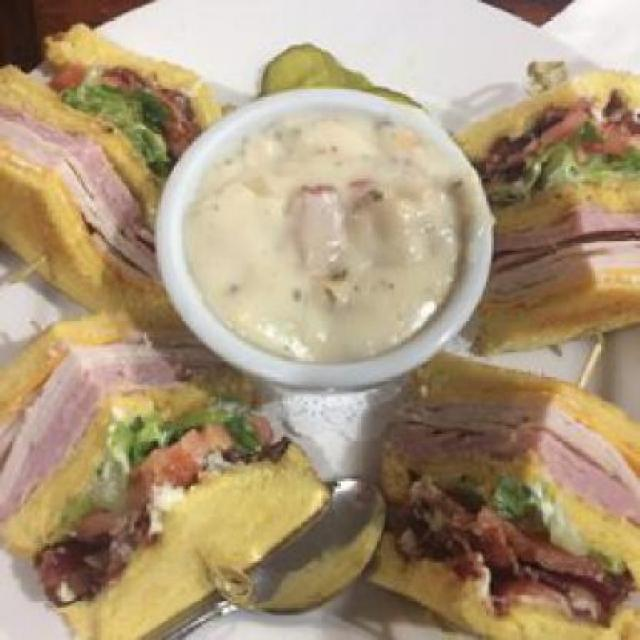clam chowder: (166, 89, 474, 365)
club sandwich: (2, 15, 638, 638)
